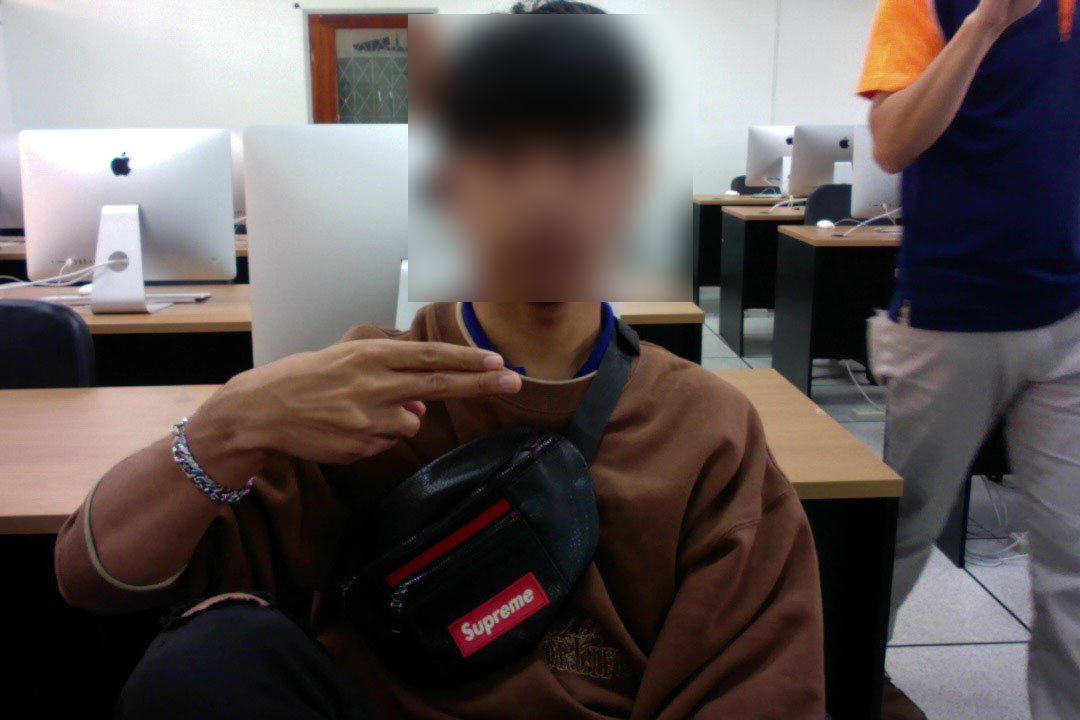hor: (241, 333, 529, 469)
